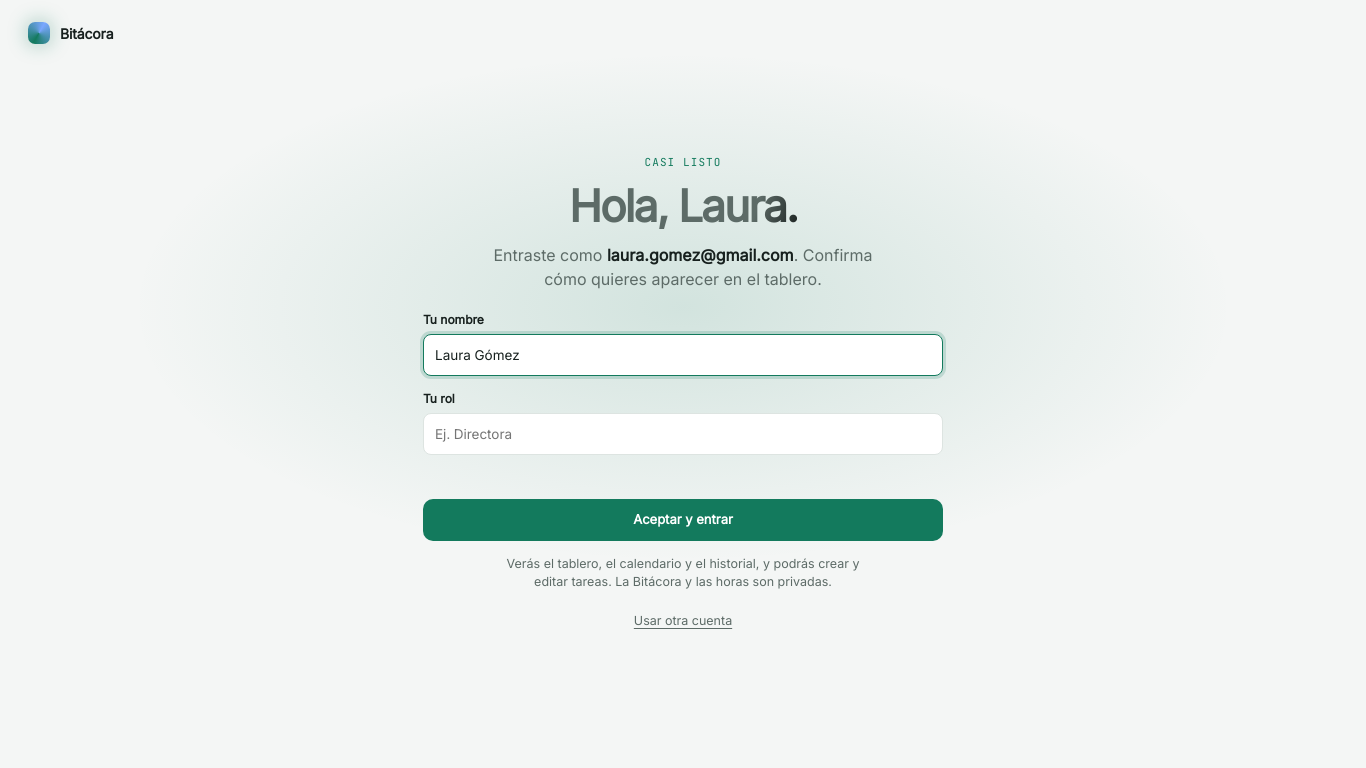
Scenario: Root · invitation › after signing in › shows a validation message from the server in the form
This screenshot has width=1366, height=768.
Type "Directora" into the field labelled "Tu rol" at (683, 434), box x1=423 y1=413 x2=943 y2=455
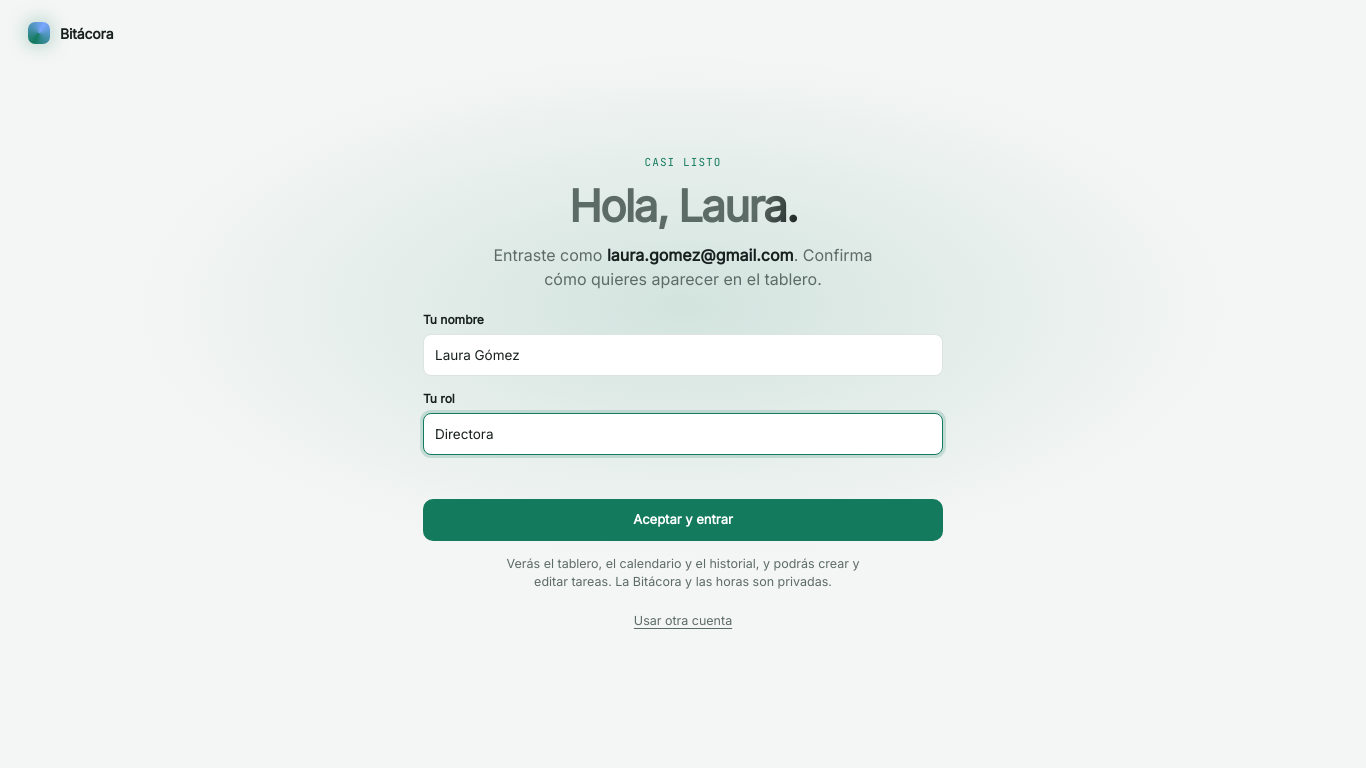
Click the button "Aceptar y entrar" at (683, 520), box x1=423 y1=499 x2=943 y2=541
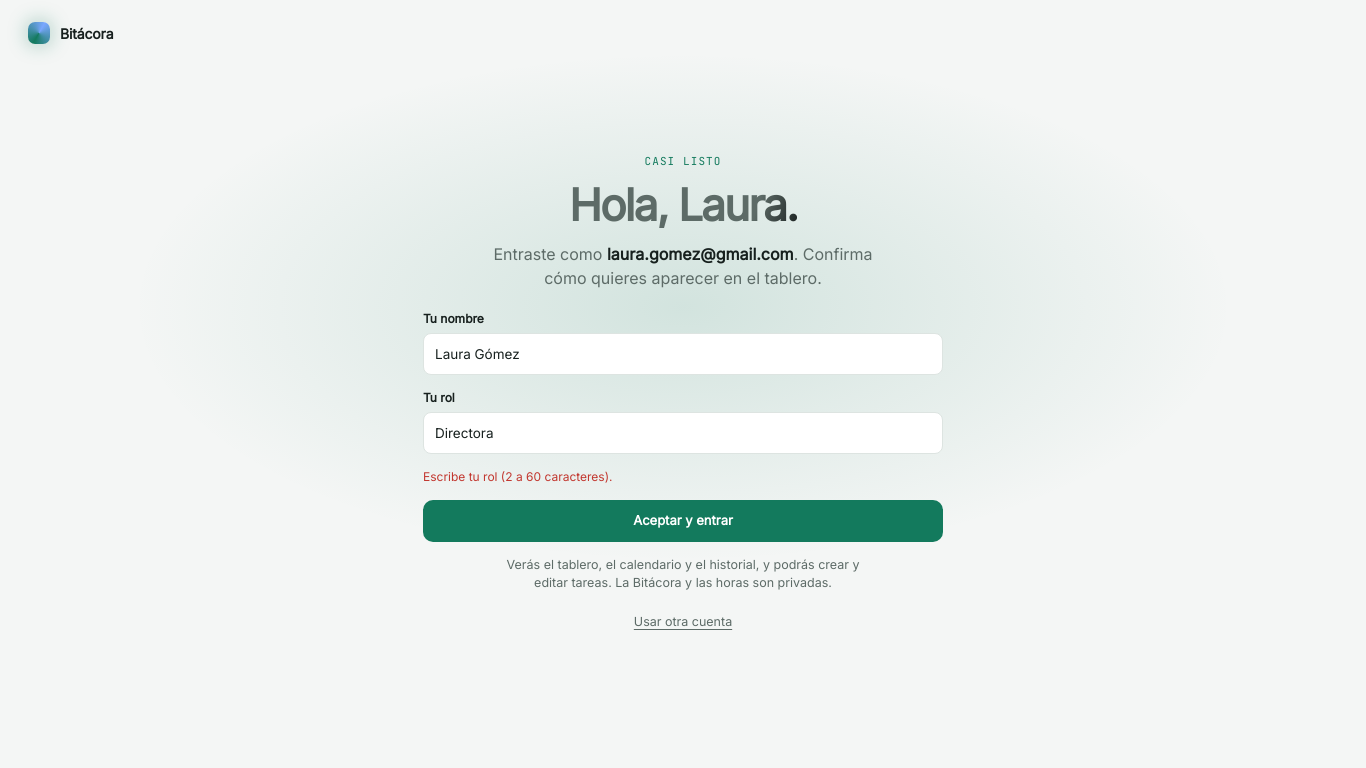
expect the message reads "Escribe tu rol (2 a 60 caracteres).": met, box x1=423 y1=469 x2=612 y2=484
